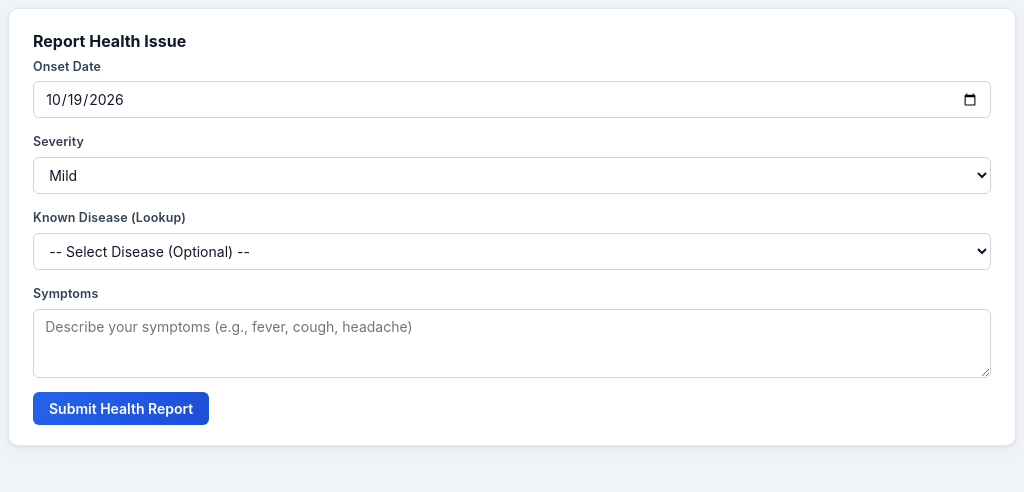
Test: Student Components › SelfReportForm › shows error message on submission failure
Type "High fever" into the text box labelled "Symptoms" at (512, 343), box [33, 309, 991, 378]
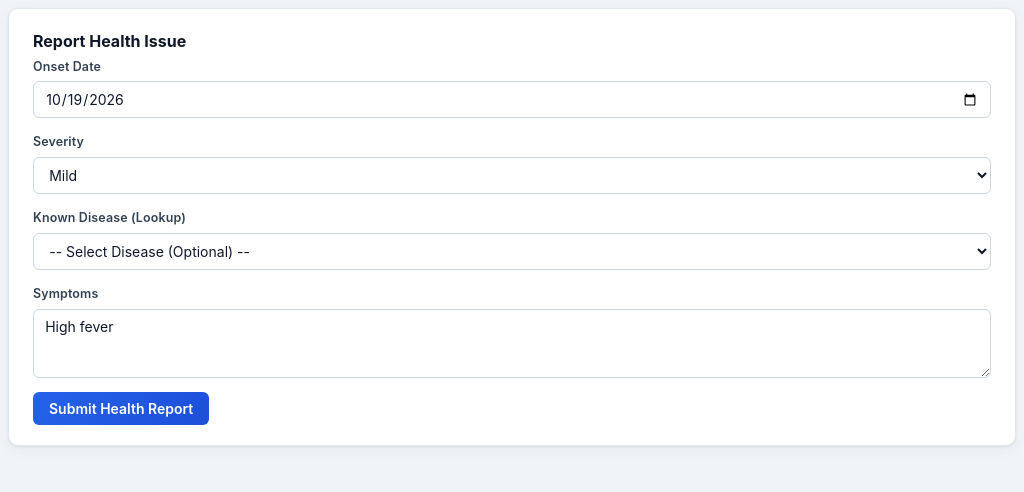
Click the button "Submit Health Report" at (121, 408), box [33, 392, 209, 425]
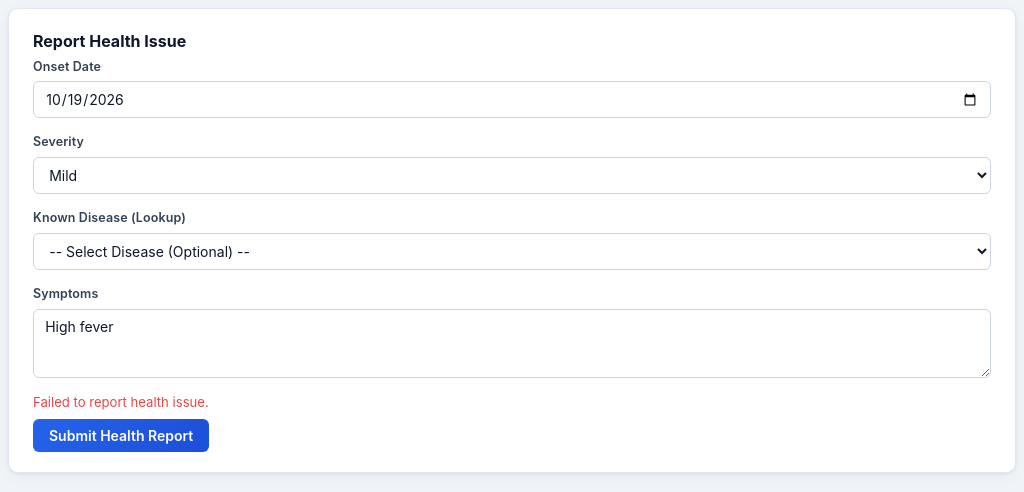
Result: the message reads "Failed to report health issue." at [33, 394, 209, 410]
